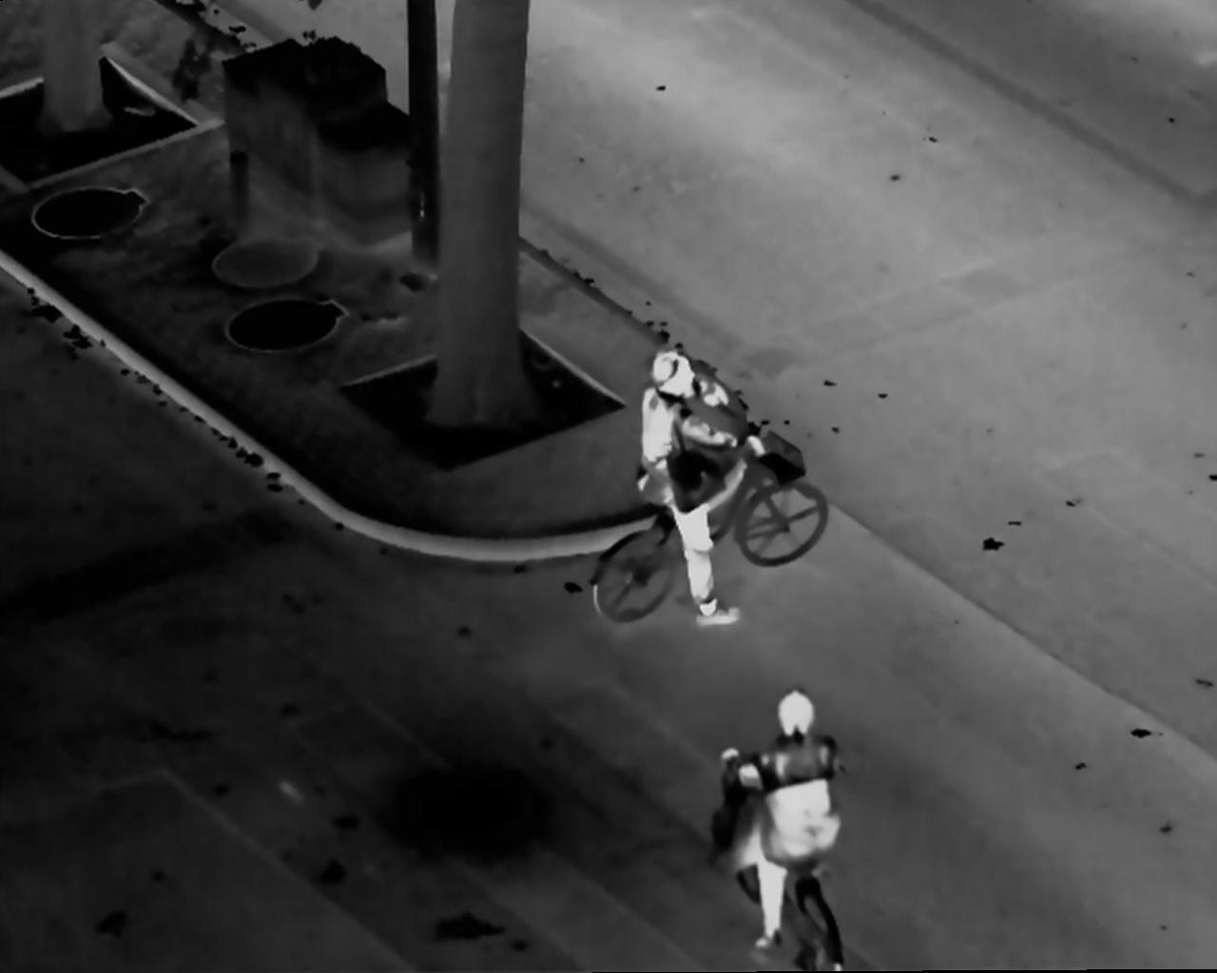person: (721, 683, 859, 969), (636, 348, 763, 633)
